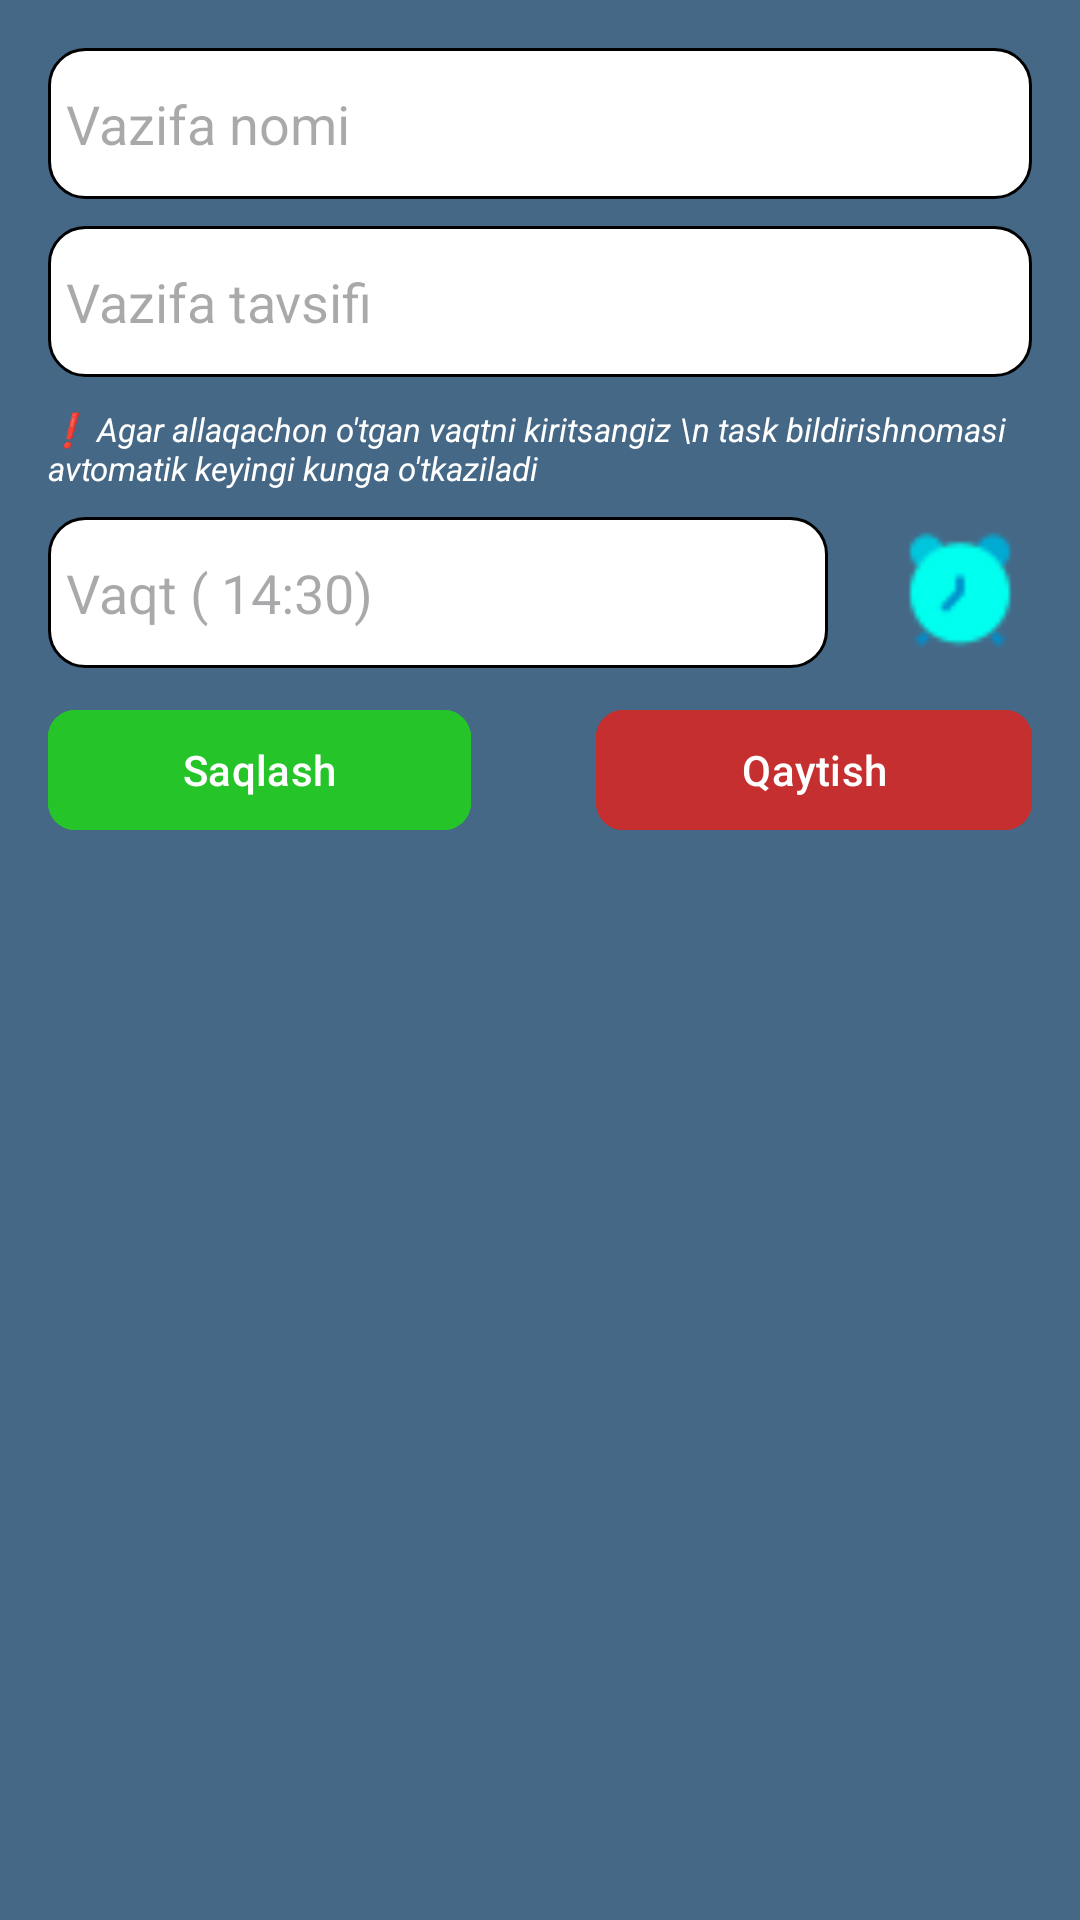

Named icons in this screenshot (1080px×1920px) and their bounding boxes, Rect(x1, y1, x2, y2):
clock: Rect(909, 533, 1011, 646)
